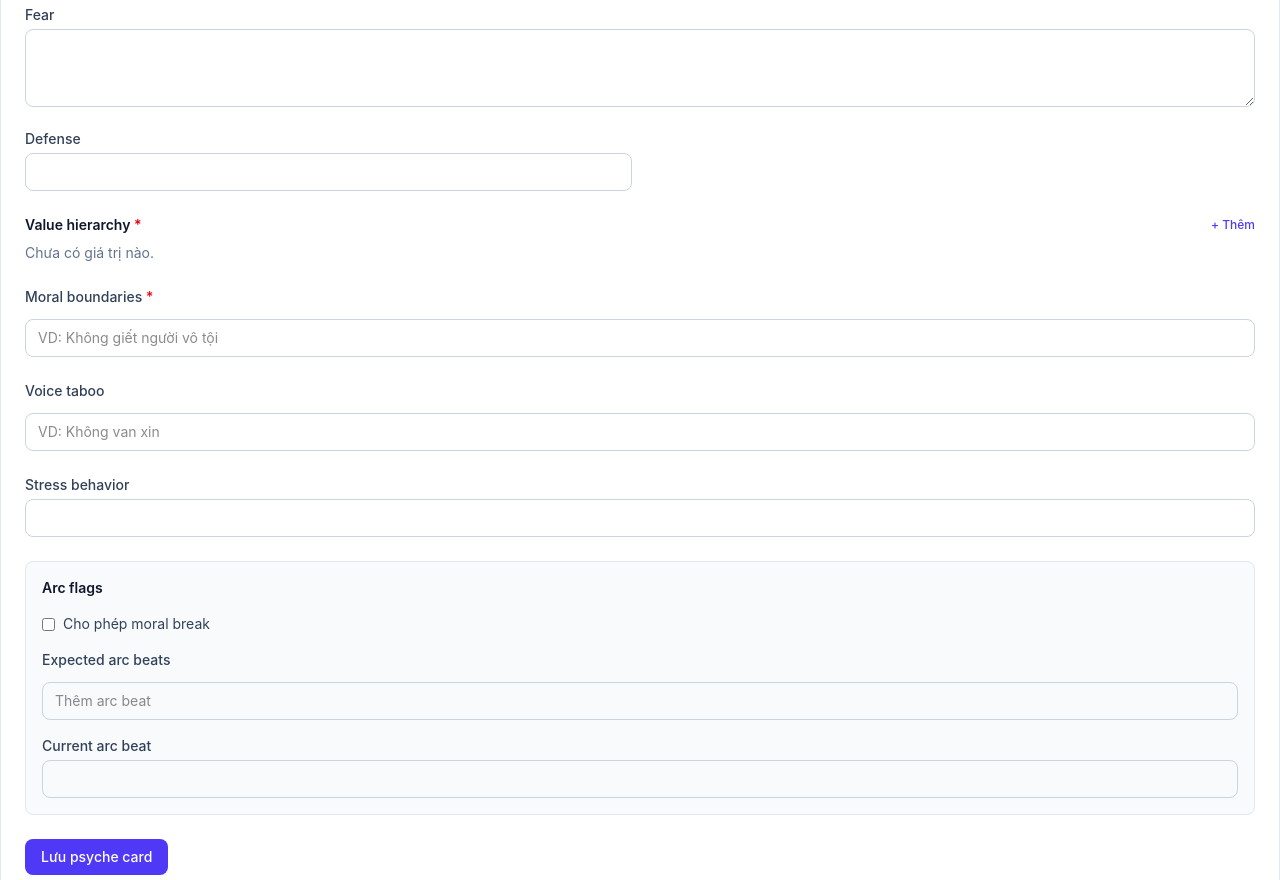
it: psyche components › PsycheCardForm shows T3 validation error
This screenshot has width=1280, height=880.
(page scrolled)
Click the button "Lưu psyche card" at (97, 857), box [25,839,168,875]
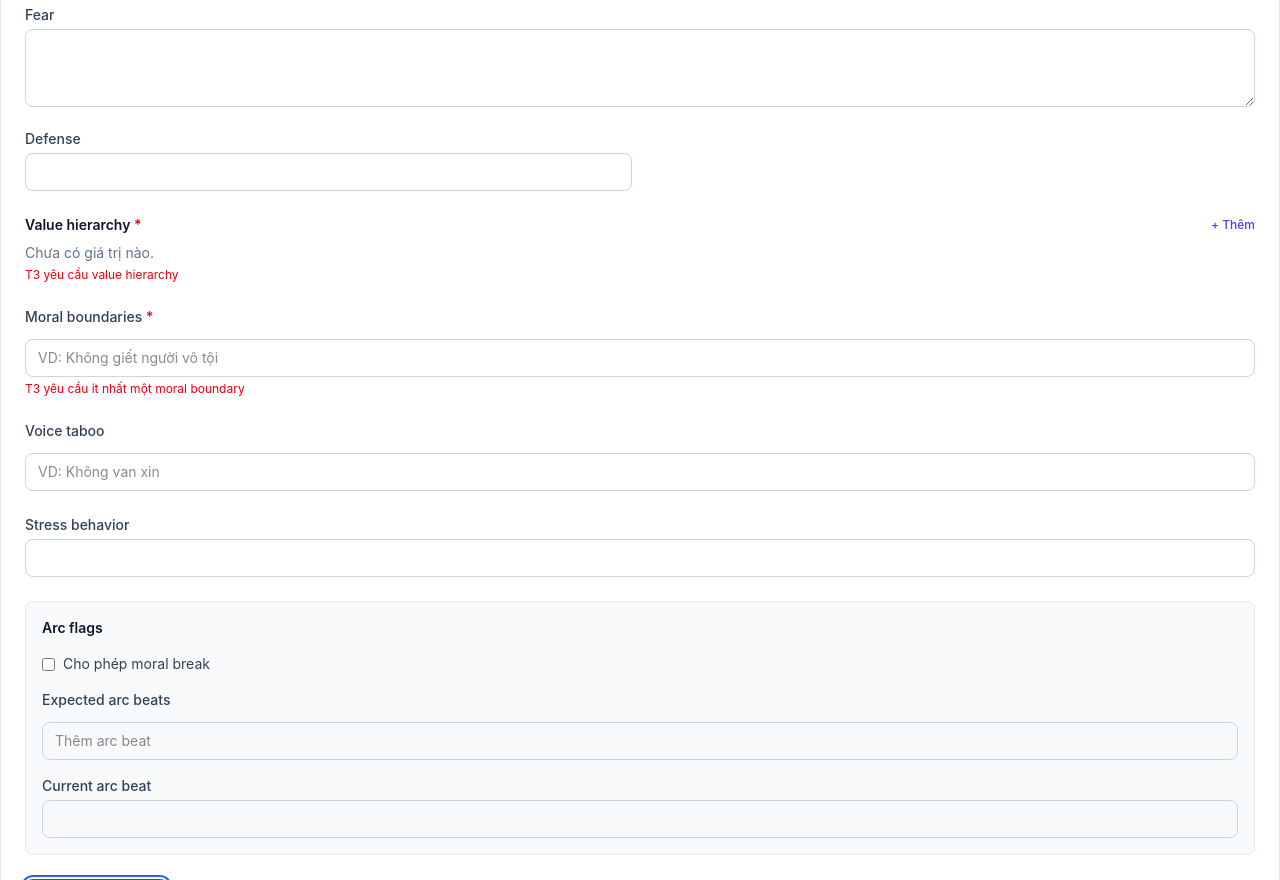
expect the text "T3 yêu cầu value hierarchy" is shown: met, box [25,267,179,282]
expect the text "T3 yêu cầu ít nhất một moral boundary" is shown: met, box [25,381,245,396]
